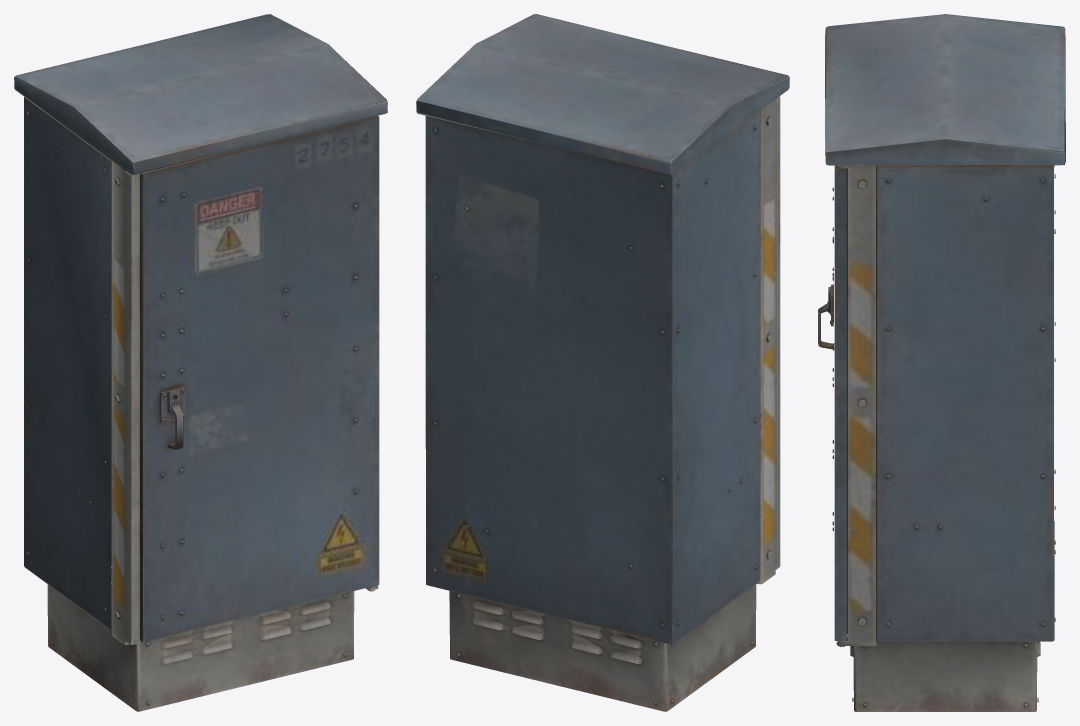
File: utility_box_01_ph.glb
3 renders of one model, left to right at view 1: azimuth 30°, elevation 25°; view 2: azimuth 150°, elevation 25°; view 3: azimuth 270°, elevation 25°, orthographic.
Parts seen in each view (by area): view 1: utility_box_01_ph-col; view 2: utility_box_01_ph-col; view 3: utility_box_01_ph-col.
Part boxes in pixels (x1,y1,x2,y2): utility_box_01_ph-col: (14, 14, 387, 711); utility_box_01_ph-col: (416, 14, 789, 711); utility_box_01_ph-col: (818, 14, 1065, 711).
Bounding box in the file's own units: 0.5185 × 1.12 × 0.432.
Materials: 1 (1 with a texture image).
